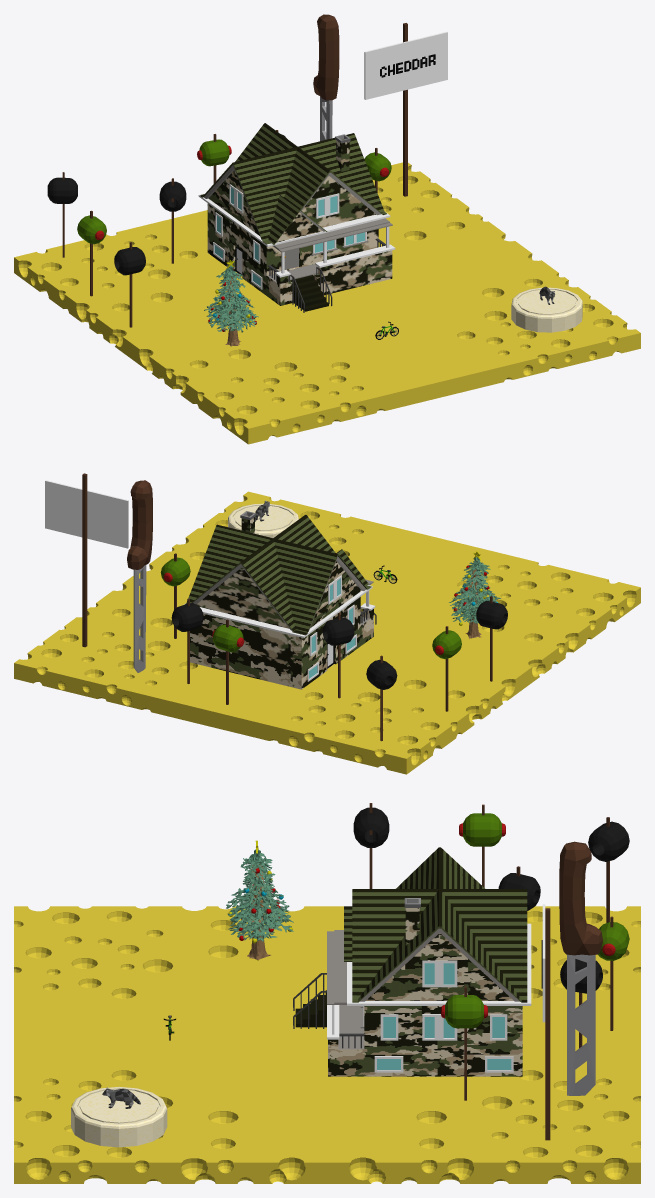
3 renders of one model, top to bottom at view 1: azimuth 30°, elevation 25°; view 2: azimuth 150°, elevation 25°; view 3: azimuth 270°, elevation 25°, orthographic. The views are drawn at different scales.
Visible parts, largest first — view 1: Cube.022, Cube.001, Cube.023, Cylinder.016, Cube.024, OBJRANDOM_CHRISTMAS_TREE, Sphere.017, Sphere.016, Sphere.020, Sphere.018, Sphere.022, Sphere.019; view 2: Cube.022, Cube.001, Cube.023, Cube.024, OBJRANDOM_CHRISTMAS_TREE, Cylinder.016, Sphere.017, Sphere.020, Sphere.021, Sphere.016, Sphere.018, Sphere.022 (+1 smaller); view 3: Cube.022, Cube.001, Cube.024, Cylinder.016, OBJRANDOM_CHRISTMAS_TREE, Cube.023, Sphere.019, Sphere.016, Sphere.018, Sphere.017, Sphere.022, Sphere.020 (+1 smaller).
Part boxes in pixels (left/top/right/bottom): Cube.022: left=14, top=162, right=640, bottom=444; Cube.001: left=198, top=123, right=395, bottom=312; Cube.023: left=364, top=23, right=447, bottom=196; Cylinder.016: left=511, top=287, right=582, bottom=332; Cube.024: left=313, top=14, right=339, bottom=141; OBJRANDOM_CHRISTMAS_TREE: left=204, top=260, right=258, bottom=346; Sphere.017: left=114, top=242, right=145, bottom=327; Sphere.016: left=47, top=172, right=77, bottom=257; Sphere.020: left=159, top=178, right=186, bottom=263; Sphere.018: left=77, top=210, right=106, bottom=296; Sphere.022: left=197, top=134, right=231, bottom=183; Sphere.019: left=364, top=148, right=391, bottom=192; Cube.022: left=14, top=491, right=640, bottom=774; Cube.001: left=184, top=511, right=376, bottom=689; Cube.023: left=45, top=473, right=128, bottom=647; Cube.024: left=127, top=480, right=152, bottom=672; OBJRANDOM_CHRISTMAS_TREE: left=449, top=551, right=500, bottom=638; Cylinder.016: left=228, top=503, right=298, bottom=537; Sphere.017: left=476, top=596, right=507, bottom=681; Sphere.020: left=322, top=612, right=354, bottom=698; Sphere.021: left=171, top=598, right=203, bottom=683; Sphere.016: left=366, top=655, right=397, bottom=741; Sphere.018: left=432, top=626, right=461, bottom=711; Sphere.022: left=212, top=619, right=244, bottom=704; Cube.022: left=14, top=906, right=640, bottom=1183; Cube.001: left=293, top=847, right=531, bottom=1076; Cube.024: left=559, top=841, right=602, bottom=1095; Cylinder.016: left=71, top=1086, right=167, bottom=1147; OBJRANDOM_CHRISTMAS_TREE: left=226, top=840, right=293, bottom=961; Cube.023: left=541, top=904, right=550, bottom=1140; Sphere.019: left=441, top=986, right=487, bottom=1100; Sphere.016: left=588, top=817, right=629, bottom=922; Sphere.018: left=459, top=804, right=505, bottom=887; Sphere.017: left=353, top=803, right=389, bottom=888; Sphere.022: left=598, top=916, right=629, bottom=1030; Sphere.020: left=498, top=866, right=540, bottom=910.
Bounding box in the file's own units: 3917 × 2030 × 4000.
35 materials, 6 textured.
